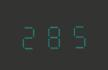eight: (42, 20, 64, 49)
five: (65, 19, 87, 49)
two: (18, 20, 40, 50)
